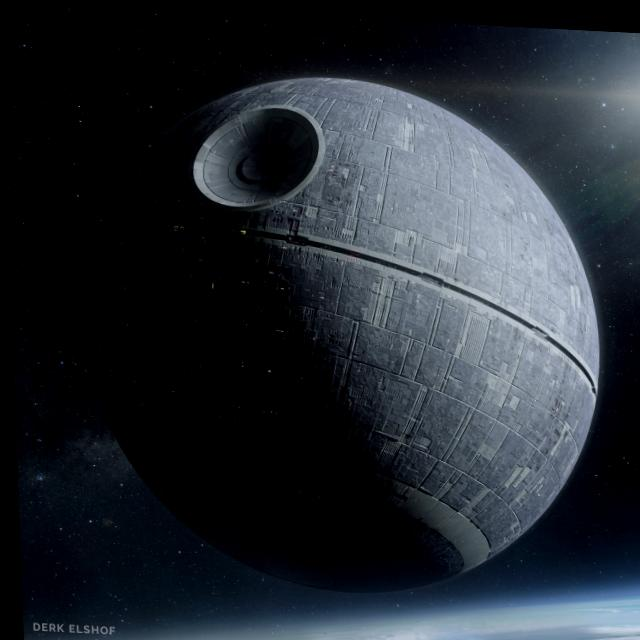deathStar: (77, 63, 606, 600)
